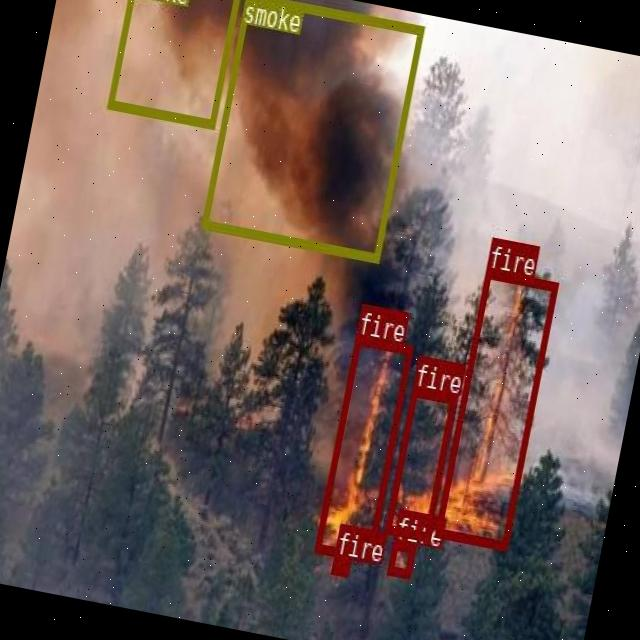fire: (434, 267, 558, 548), (314, 334, 412, 561), (384, 386, 456, 538), (386, 540, 415, 576), (330, 555, 350, 574)
smoke: (200, 0, 424, 262), (106, 0, 242, 127)
